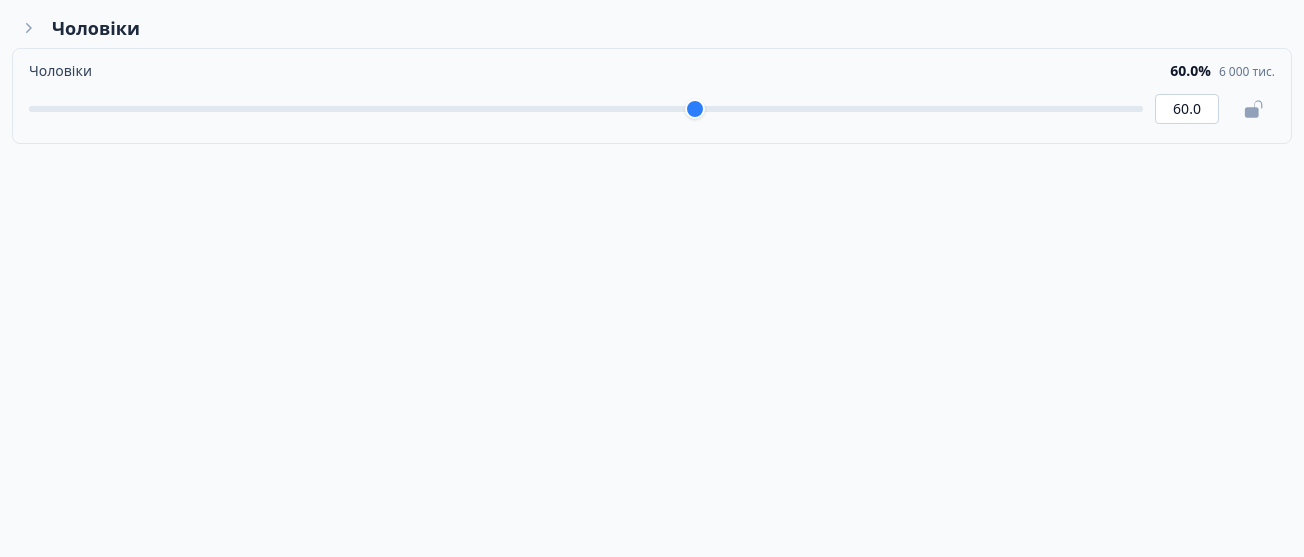
Test: TreePanel industry list toggle › hides industry nodes again when collapsed
What coordinates should you click on to do the following:
click the button with aria-label "expand чоловіки"
I would click on:
 (96, 28)
Its box is left=12, top=12, right=1292, bottom=44.
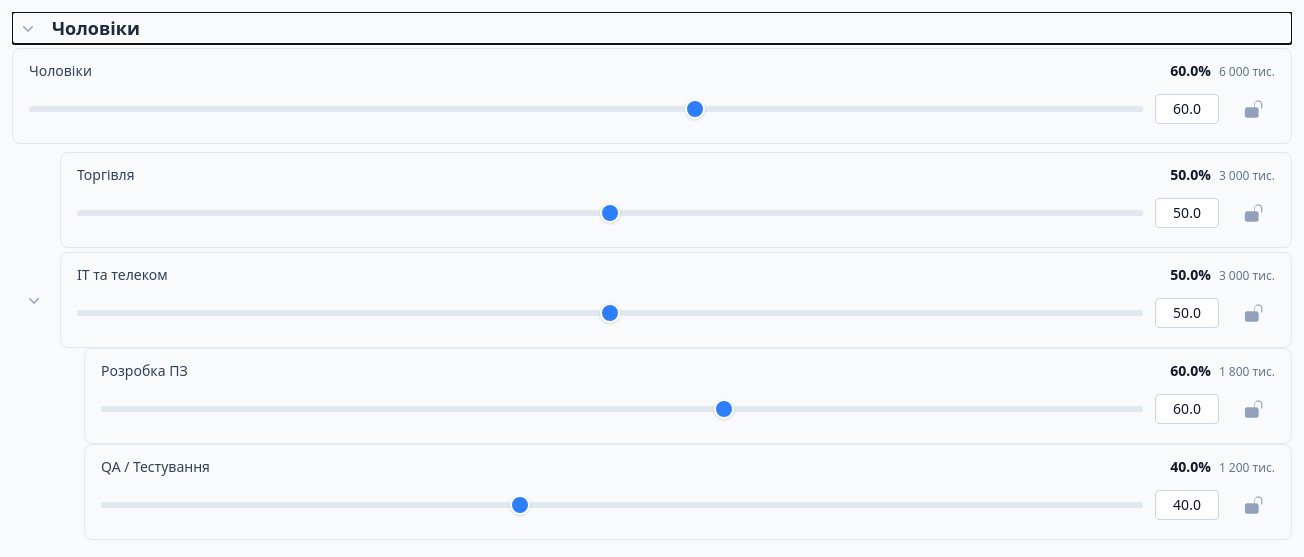
Result: the text "Торгівля" is shown at left=77, top=165, right=134, bottom=185
What coordinates should you click on to do the following:
click the button with aria-label "collapse чоловіки"
I would click on:
 (96, 28)
Its box is left=12, top=12, right=1292, bottom=44.
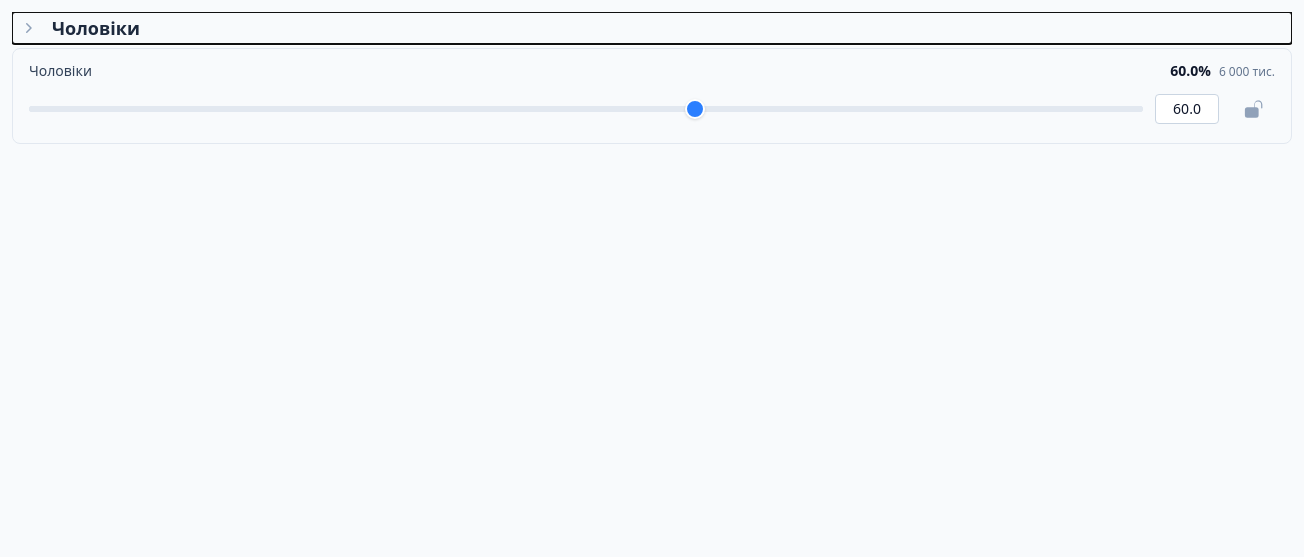
Result: the text "Торгівля" is gone
